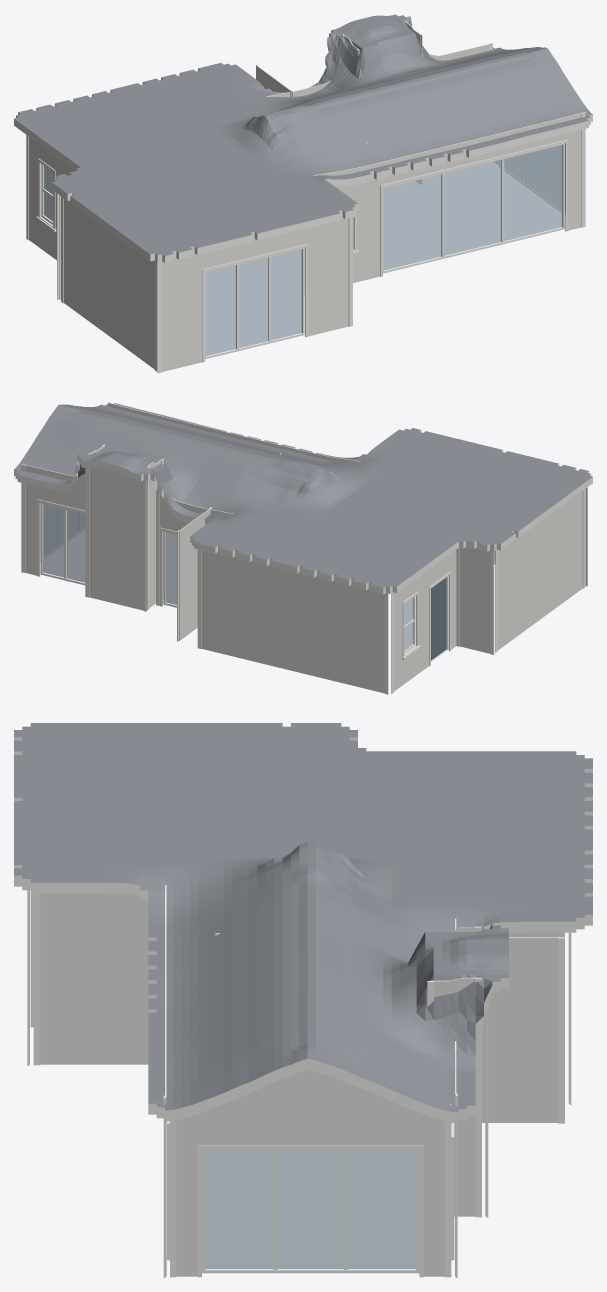
The model's file is mocking-bird-lot-2-envelope.glb.
3 views of the same model, one above another, from view 1: azimuth 30°, elevation 25°; view 2: azimuth 150°, elevation 25°; view 3: azimuth 270°, elevation 25° (orthographic). The views are drawn at different scales.
Visible parts, largest first — view 1: roof, siding, glass, trim, fascia, window_frame; view 2: roof, siding, trim, fascia, glass, window_frame, door; view 3: roof, siding, glass, trim, fascia, window_frame.
Part boxes in pixels (x1,y1,x2,y2): roof: (14,14,592,255); siding: (29,21,582,371); glass: (44,143,565,356); trim: (26,20,585,373); fascia: (14,30,592,262); window_frame: (41,143,565,359); roof: (14,403,592,587); siding: (24,403,585,693); trim: (21,402,587,694); fascia: (14,430,592,594); glass: (40,474,495,649); window_frame: (40,503,495,653); door: (431,578,446,660); roof: (14,723,592,1112); siding: (29,885,569,1276); glass: (205,1151,415,1268); trim: (27,890,571,1277); fascia: (14,737,592,1123); window_frame: (30,893,454,1273).
Bounding box in the file's own units: 15.75 × 4.82 × 10.35.
